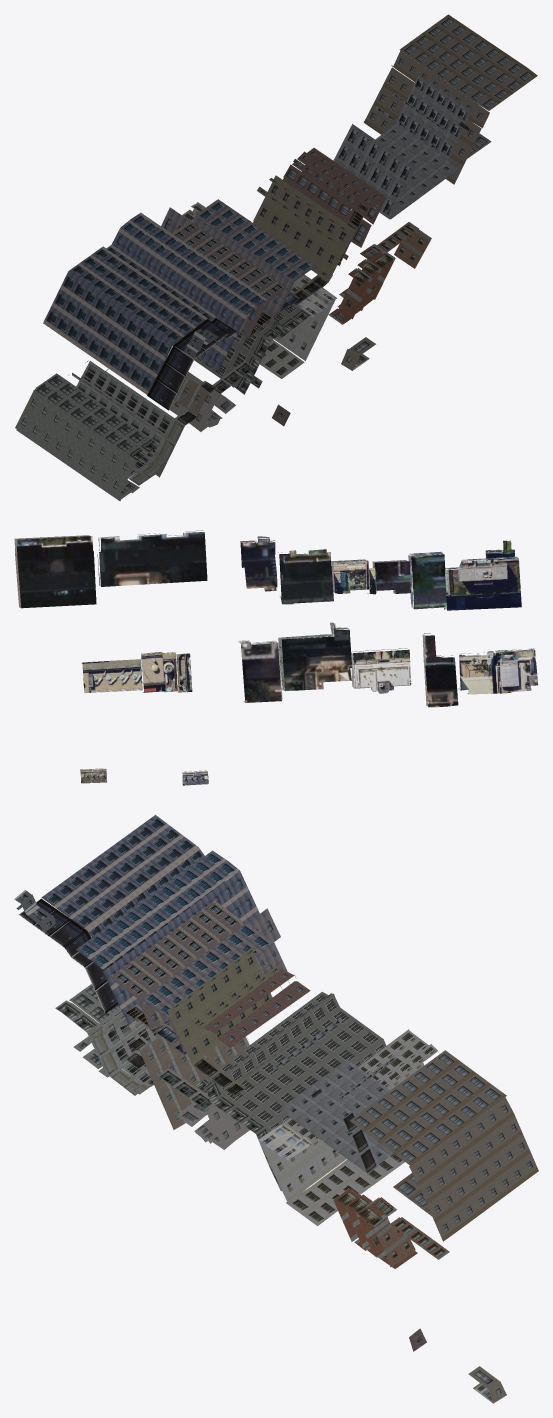
File: tile_LOD4_r2_c9.glb
3 views of the same model, one above another, from view 1: azimuth 30°, elevation 25°; view 2: azimuth 150°, elevation 25°; view 3: azimuth 270°, elevation 25° (orthographic). The views are drawn at different scales.
Bounding box in the file's own units: 175 × 87.76 × 115.
93 materials, 93 textured.
